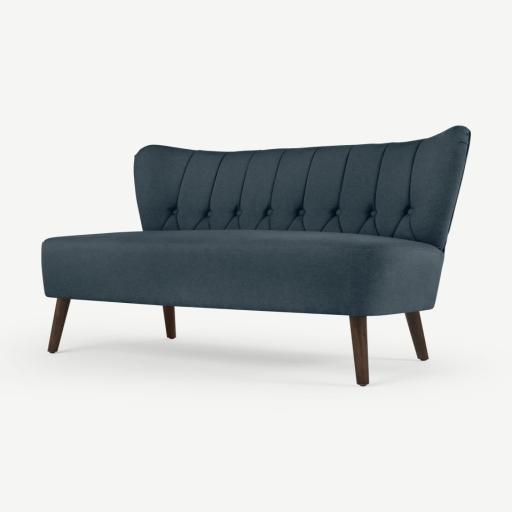back_cushion: (135, 126, 469, 250)
legs: (350, 316, 368, 385), (48, 299, 70, 353), (406, 312, 428, 360), (163, 306, 176, 339)
one-seater: (41, 126, 470, 386)
seat_cushion: (43, 230, 443, 316)
